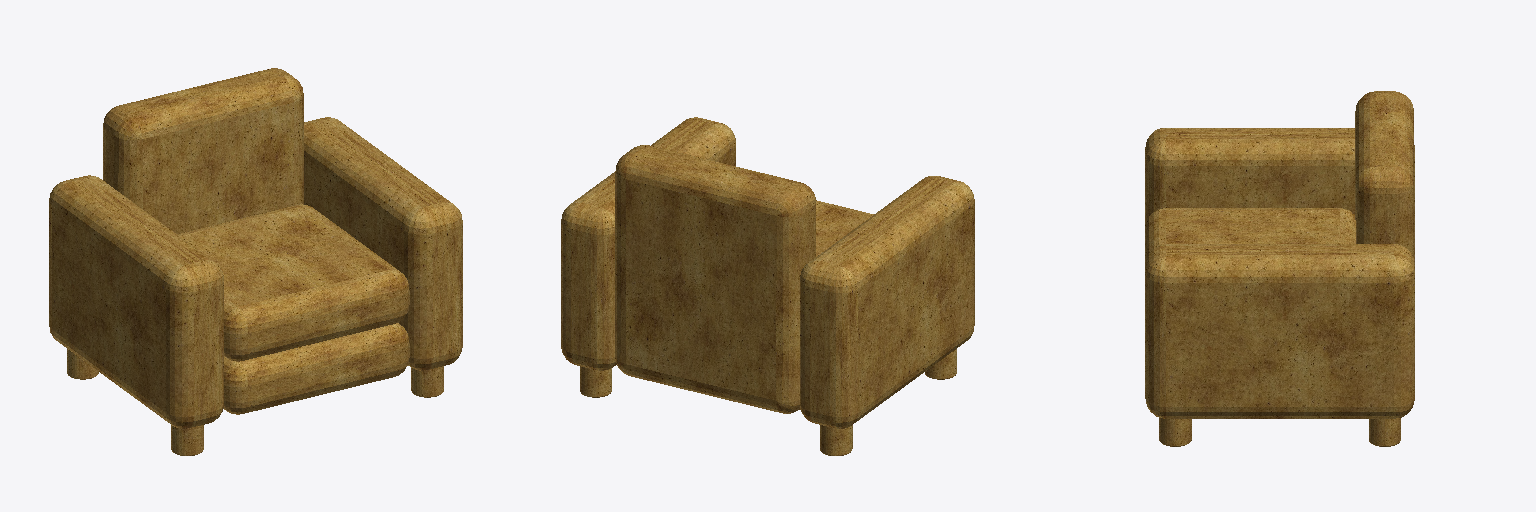
The picture shows the model from 3 angles: view 1: azimuth 30°, elevation 25°; view 2: azimuth 150°, elevation 25°; view 3: azimuth 270°, elevation 25°; orthographic projection.
Visible parts, largest first — view 1: armshair; view 2: armshair; view 3: armshair.
Boxes of the visible parts, box(x1,y1,x2,y2) form: armshair: box(49, 68, 462, 455); armshair: box(561, 117, 974, 455); armshair: box(1145, 91, 1414, 446).
Size of the model in its own units: 5.29 by 4.34 by 4.2.
Materials: 1 (1 with a texture image).